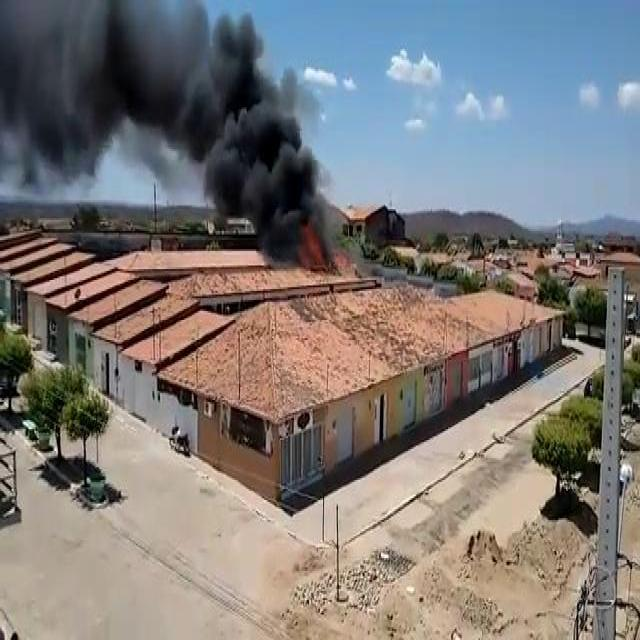Fire: (302, 218, 334, 278)
Smoke: (7, 4, 217, 200), (226, 29, 296, 269)
